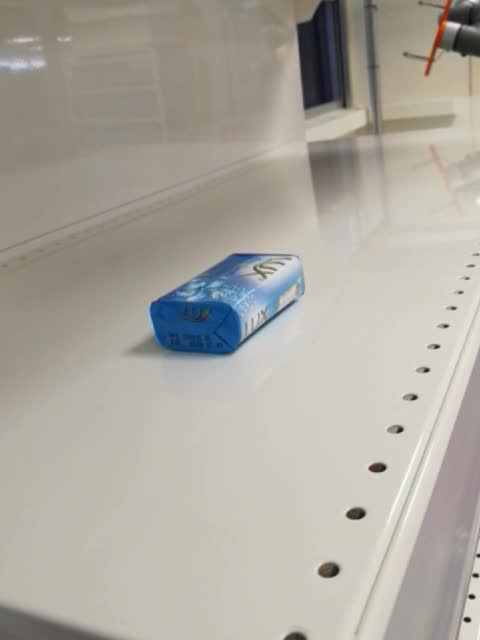soap: (148, 252, 305, 357)
